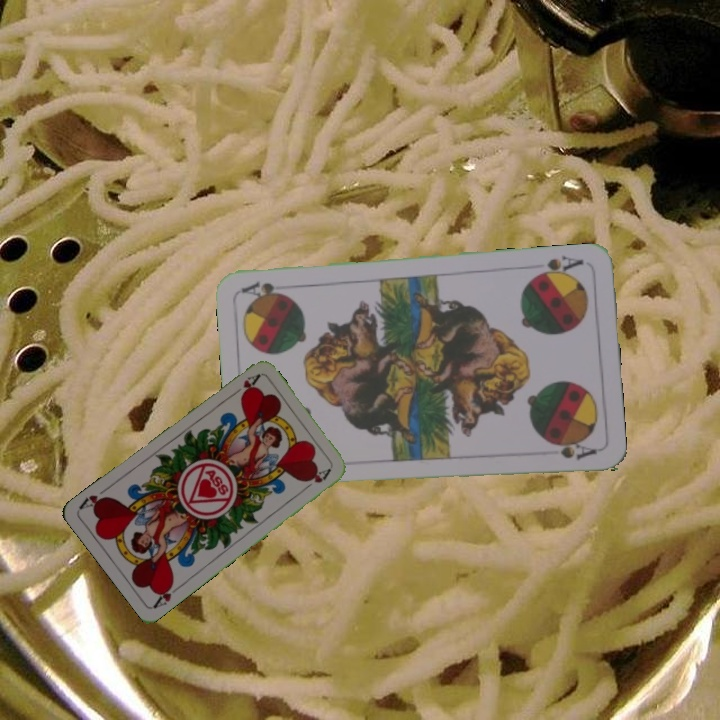HA: (150, 578, 185, 611), (227, 370, 262, 400)
SA: (530, 252, 586, 281)
